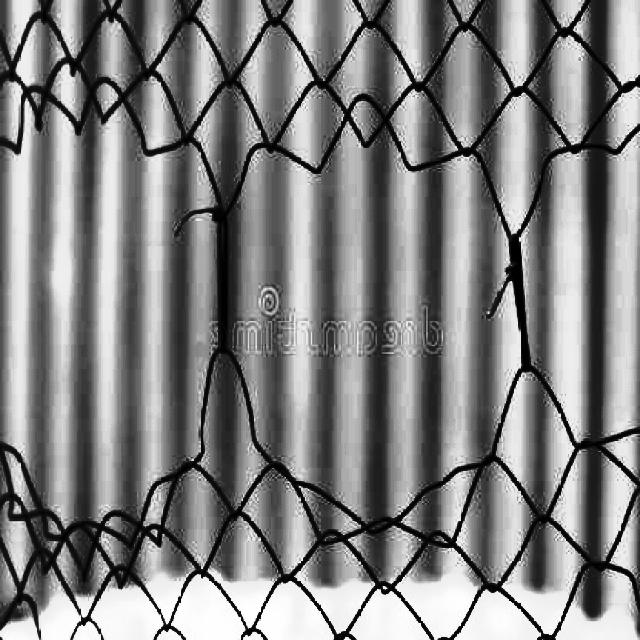anomaly-fence: (0, 32, 640, 577)
